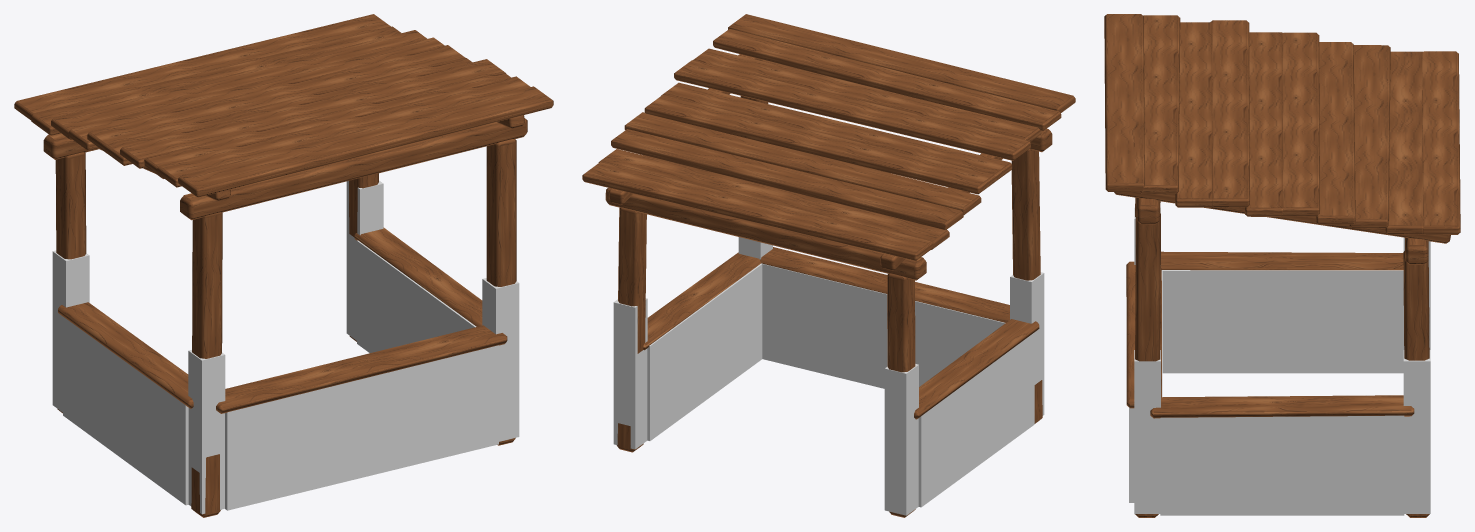
File: SM_Stall_Simple.fbx
3 views of the same model, side by side, from view 1: azimuth 30°, elevation 25°; view 2: azimuth 150°, elevation 25°; view 3: azimuth 270°, elevation 25° (orthographic). The views are drawn at different scales.
Parts seen in each view (by area): view 1: StallSimple_Body, StallSimple_Col4, StallSimple_Col5, StallSimple_Col6, StallSimple_Col0, StallSimple_Col2, StallSimple_Col1, StallSimple_Col3; view 2: StallSimple_Body, StallSimple_Col4, StallSimple_Col6, StallSimple_Col5, StallSimple_Col1, StallSimple_Col3, StallSimple_Col0; view 3: StallSimple_Body, StallSimple_Col5, StallSimple_Col6, StallSimple_Col3, StallSimple_Col2, StallSimple_Col4.
Boxes of the visible parts, x1,y1,x2,y2 form: StallSimple_Body: (14, 14, 553, 517); StallSimple_Col4: (225, 345, 498, 510); StallSimple_Col5: (63, 317, 188, 505); StallSimple_Col6: (357, 240, 476, 352); StallSimple_Col0: (188, 350, 225, 514); StallSimple_Col2: (482, 278, 519, 441); StallSimple_Col1: (52, 250, 89, 412); StallSimple_Col3: (346, 180, 383, 340); StallSimple_Body: (582, 14, 1075, 517); StallSimple_Col4: (761, 263, 1005, 388); StallSimple_Col6: (647, 263, 762, 440); StallSimple_Col5: (918, 332, 1034, 507); StallSimple_Col1: (884, 364, 918, 515); StallSimple_Col3: (613, 298, 647, 449); StallSimple_Col0: (1010, 272, 1044, 415); StallSimple_Body: (1104, 14, 1460, 517); StallSimple_Col5: (1161, 270, 1404, 373); StallSimple_Col6: (1160, 415, 1404, 515); StallSimple_Col3: (1403, 350, 1430, 513); StallSimple_Col2: (1134, 350, 1160, 513); StallSimple_Col4: (1129, 270, 1162, 502).
Bounding box in the file's own units: 12.59 × 11.35 × 10.58.
